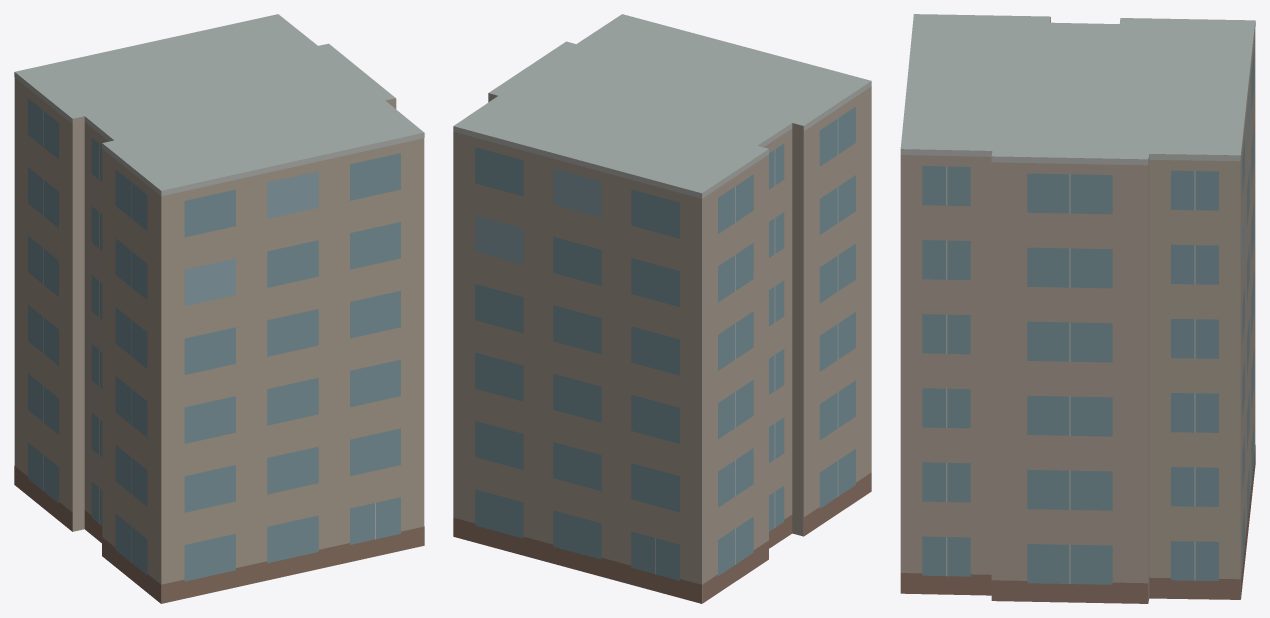
The model's file is survey-upis-32653879.glb.
The picture shows the model from 3 angles, left to right: view 1: azimuth 30°, elevation 25°; view 2: azimuth 150°, elevation 25°; view 3: azimuth 270°, elevation 25°; orthographic projection. The views are drawn at different scales.
Parts seen in each view (by area): view 1: survey-upis-32653879.tmp; view 2: survey-upis-32653879.tmp; view 3: survey-upis-32653879.tmp.
Part boxes in pixels (x1,y1,x2,y2): survey-upis-32653879.tmp: (14, 14, 424, 603); survey-upis-32653879.tmp: (453, 14, 871, 603); survey-upis-32653879.tmp: (900, 14, 1255, 603).
Size of the model in its own units: 12.84 by 18.3 by 13.25.
